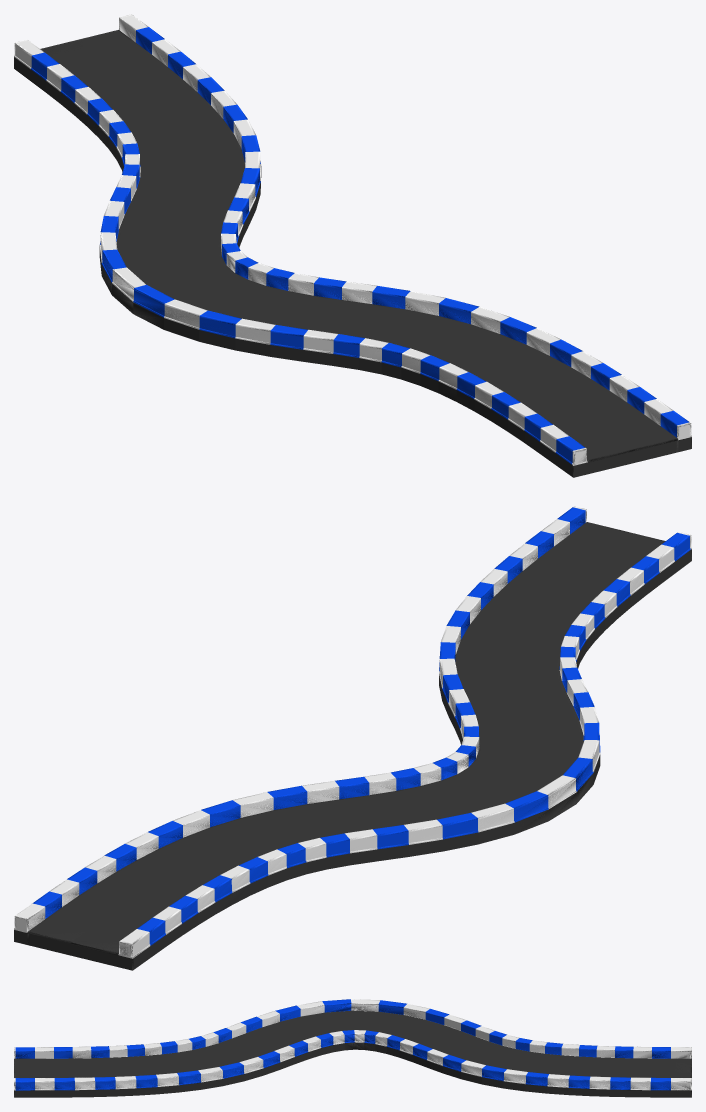
Rendered from straight_curve_.glb.
The picture shows the model from 3 angles, top to bottom: view 1: azimuth 30°, elevation 25°; view 2: azimuth 150°, elevation 25°; view 3: azimuth 270°, elevation 25°; orthographic projection. The views are drawn at different scales.
Visible parts, largest first — view 1: path 2; view 2: path 2; view 3: path 2.
Part boxes in pixels (<box>): path 2: <box>14,14,691,477</box>; path 2: <box>14,506,691,970</box>; path 2: <box>14,999,691,1097</box>.
Bounding box in the file's own units: 9.22 × 0.8104 × 31.78.
